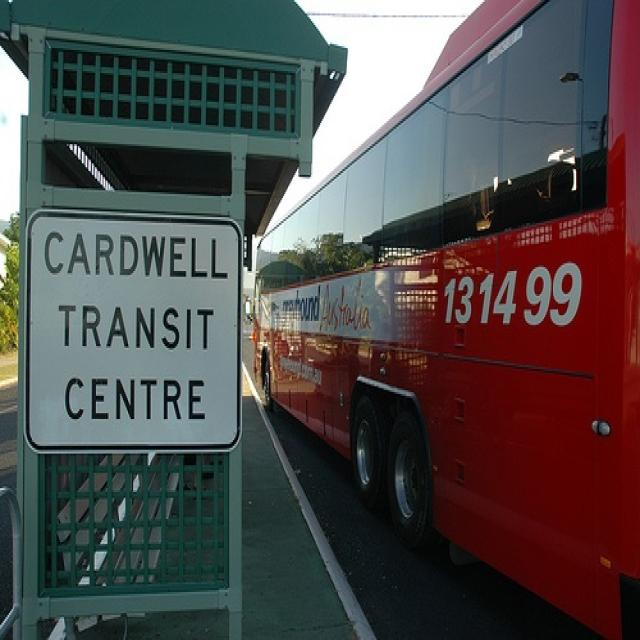bus: (244, 3, 640, 639)
